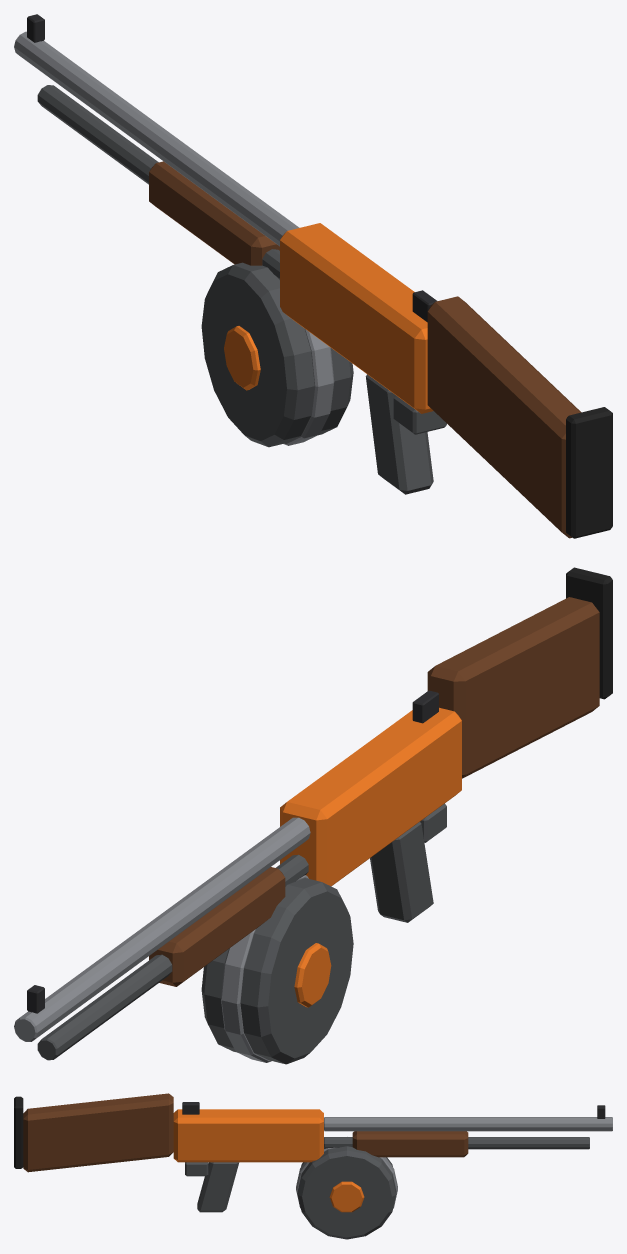
File: drum_shotgun.glb
The picture shows the model from 3 angles, top to bottom: view 1: azimuth 30°, elevation 25°; view 2: azimuth 150°, elevation 25°; view 3: azimuth 270°, elevation 25°; orthographic projection. The views are drawn at different scales.
Parts seen in each view (by area): view 1: drum_shotgun; view 2: drum_shotgun; view 3: drum_shotgun.
Part boxes in pixels (x1,y1,x2,y2): drum_shotgun: [14, 14, 612, 538]; drum_shotgun: [14, 567, 612, 1064]; drum_shotgun: [14, 1093, 612, 1239].
Size of the model in its own units: 0.0633 by 0.2033 by 0.8.
